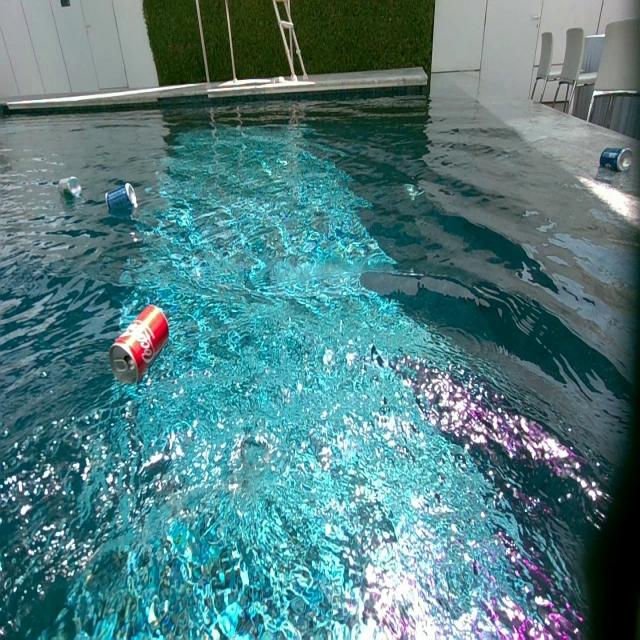Cans: (110, 306, 168, 385), (105, 183, 135, 214), (600, 146, 634, 172), (62, 176, 81, 198)
